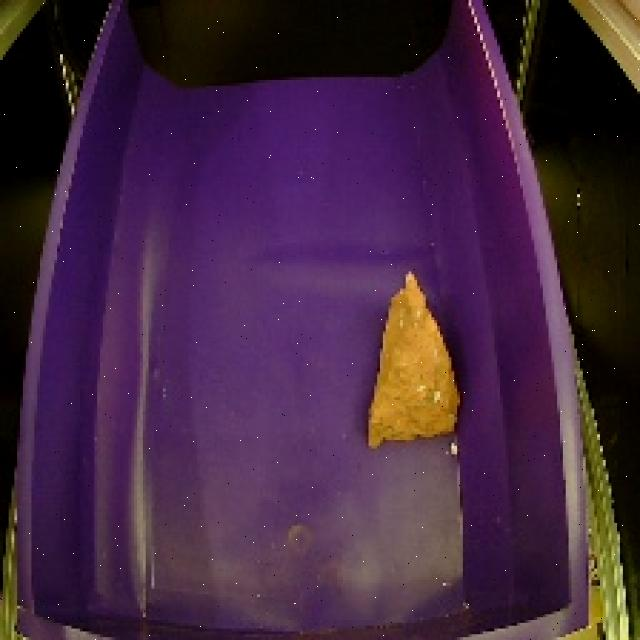brick: (351, 264, 468, 455)
